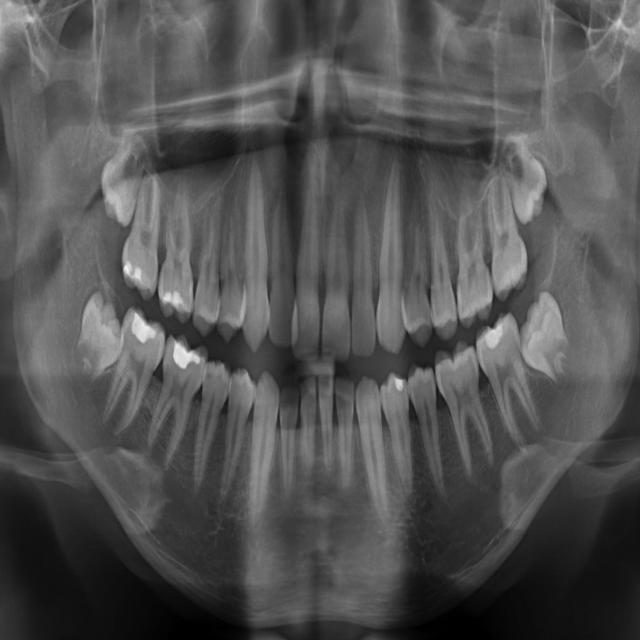3M ESPE Implant: (88, 127, 154, 230)
AGS Medikal Implant: (469, 308, 548, 454)
AMerOss Implant: (429, 337, 501, 482)
Amalgam filling: (121, 170, 161, 301)
Anthogyr Implant: (406, 361, 451, 502)
Bicon Implant: (378, 370, 421, 501)
BioHorizons Implant: (352, 374, 396, 532)
BioLife Implant: (335, 375, 354, 487)
Biomet 3i Implant: (318, 373, 338, 475)
Blue Sky Bio Implant: (299, 375, 317, 475)
Camlog Implant: (279, 384, 300, 501)
Caries: (350, 190, 376, 360)
Composite filling: (243, 368, 282, 527)
Cowellmedi Implant: (213, 365, 260, 504)
Crown: (181, 357, 235, 500)
DENTSPLY Implant: (156, 184, 194, 324)
Dentatus Implant: (141, 330, 212, 473)
Dentis Implant: (98, 303, 172, 443)
Dentium Implant: (65, 288, 133, 395)
Euroteknika Implant: (190, 179, 231, 339)
Filling: (216, 189, 253, 344)
Frontier Implant: (241, 151, 274, 353)
Hiossen Implant: (371, 153, 407, 356)
Implant: (292, 179, 326, 366)
Implant Direct: (268, 177, 301, 348)
Keystone Dental Implant: (321, 185, 355, 364)
MIS Implant: (397, 204, 433, 348)
Mandible: (416, 189, 460, 342)
Maxilla: (455, 192, 493, 329)
Megagen Implant: (482, 165, 531, 302)
Neodent Implant: (494, 131, 558, 227)
Neoss Implant: (499, 286, 595, 400)
